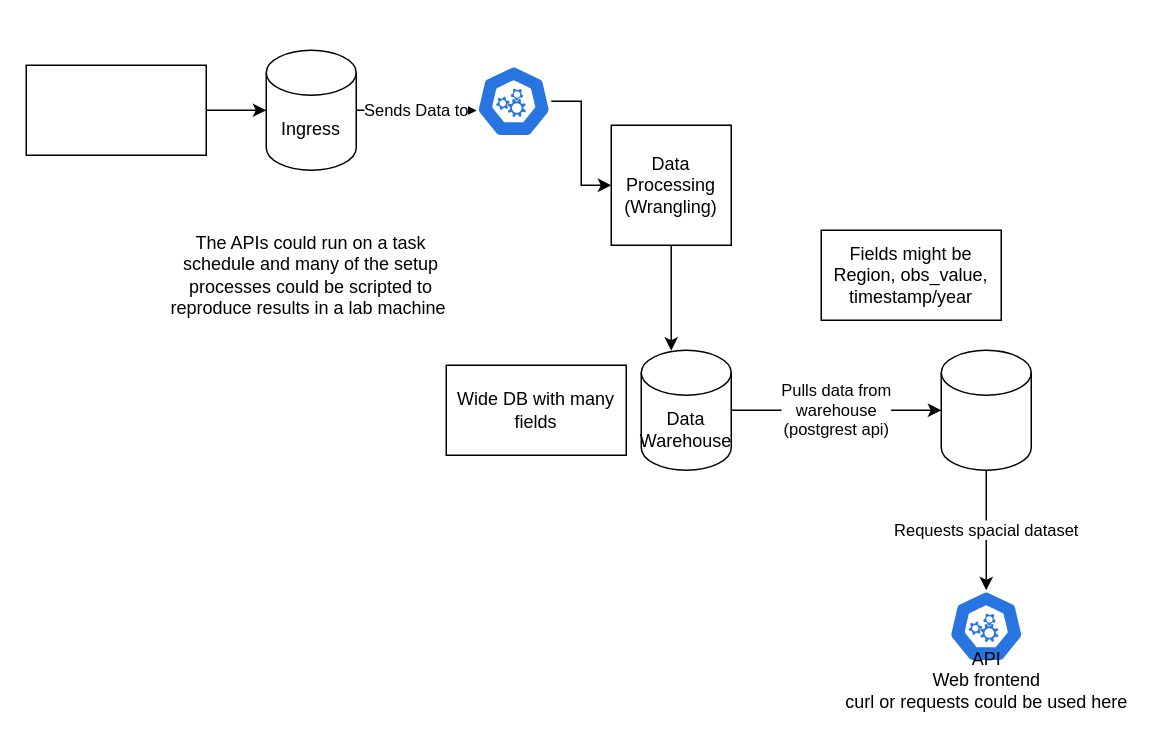
This 1154x738 diagram has some shape labels left out. Each missing label, with the box of its shape:
API python( Postgrest): (475, 64, 551, 137)
Data contract we expect the data to be clean: (25, 64, 206, 155)
Subset (ie spacial): (940, 349, 1031, 470)
